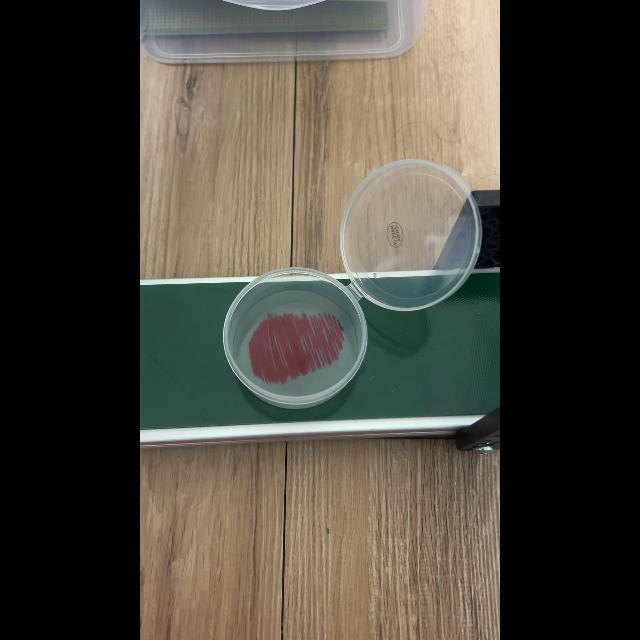dirty: (227, 281, 356, 404)
